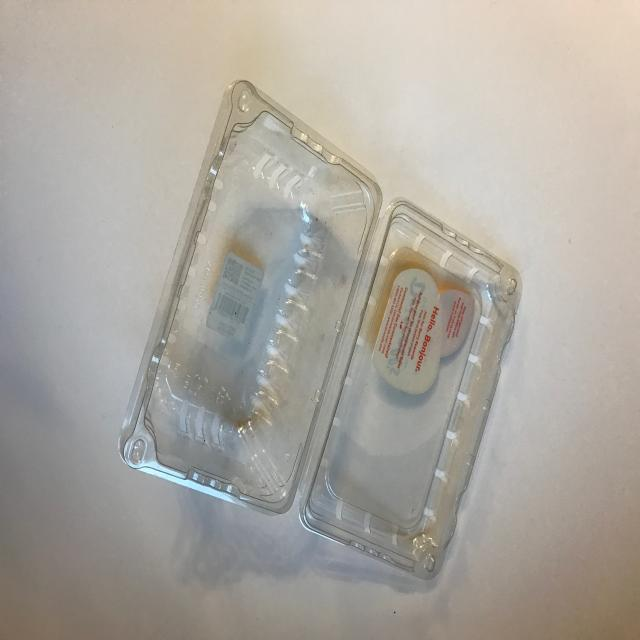plastic: (113, 74, 526, 589)
